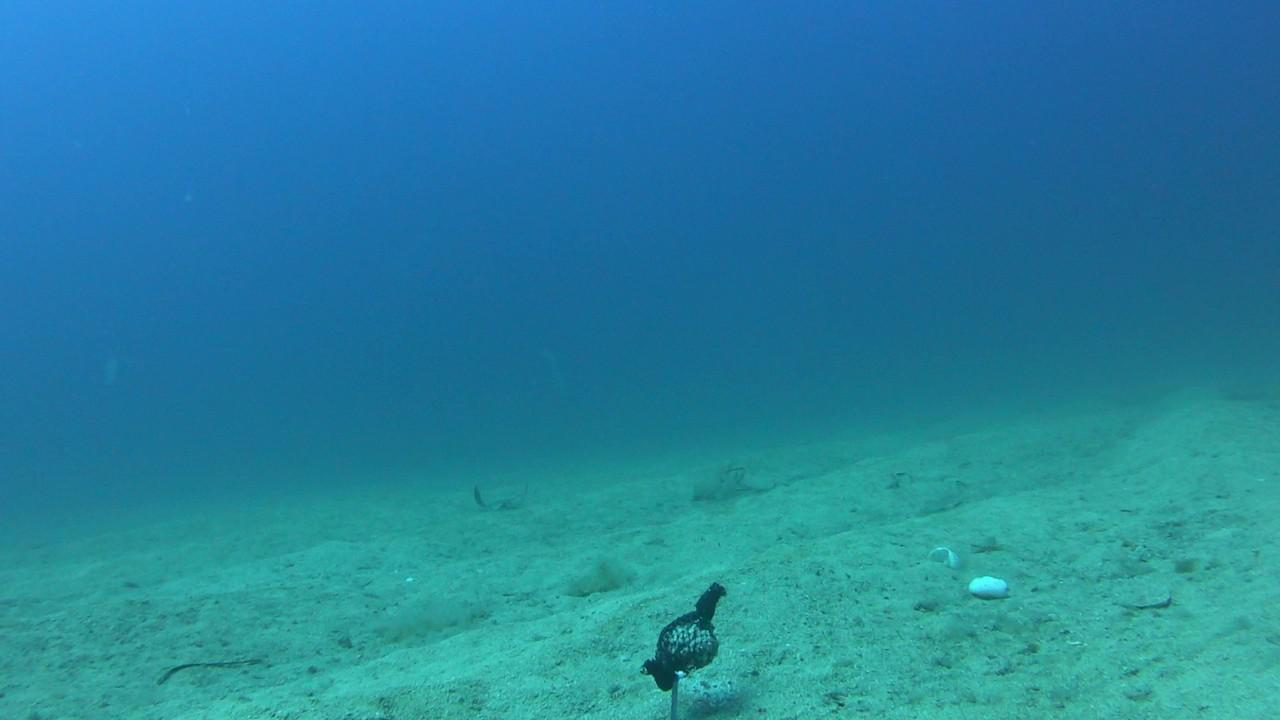myliobatis: (459, 468, 541, 519)
